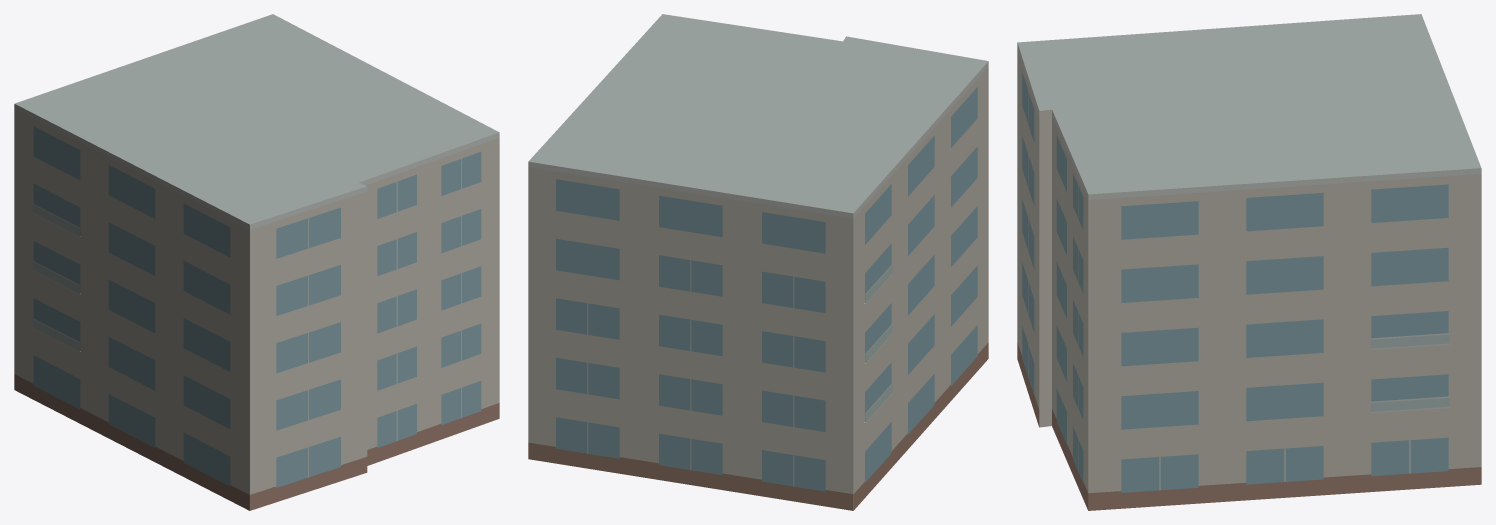
File: survey-upis-32690754.glb
3 renders of one model, left to right at view 1: azimuth 30°, elevation 25°; view 2: azimuth 150°, elevation 25°; view 3: azimuth 270°, elevation 25°, orthographic. The views are drawn at different scales.
Visible parts, largest first — view 1: survey-upis-32690754.tmp; view 2: survey-upis-32690754.tmp; view 3: survey-upis-32690754.tmp.
Part boxes in pixels (x1,y1,x2,y2): survey-upis-32690754.tmp: (14, 14, 499, 510); survey-upis-32690754.tmp: (528, 14, 988, 510); survey-upis-32690754.tmp: (1017, 14, 1481, 510).
Size of the model in its own units: 16.31 by 13.33 by 17.73.
